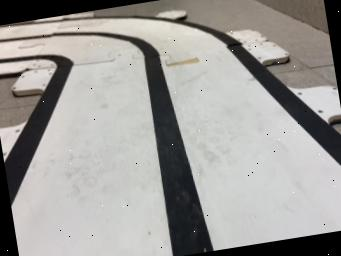street: (0, 15, 341, 256), (0, 15, 341, 256), (0, 15, 341, 256), (0, 15, 341, 256), (0, 15, 341, 256), (0, 15, 341, 256)
